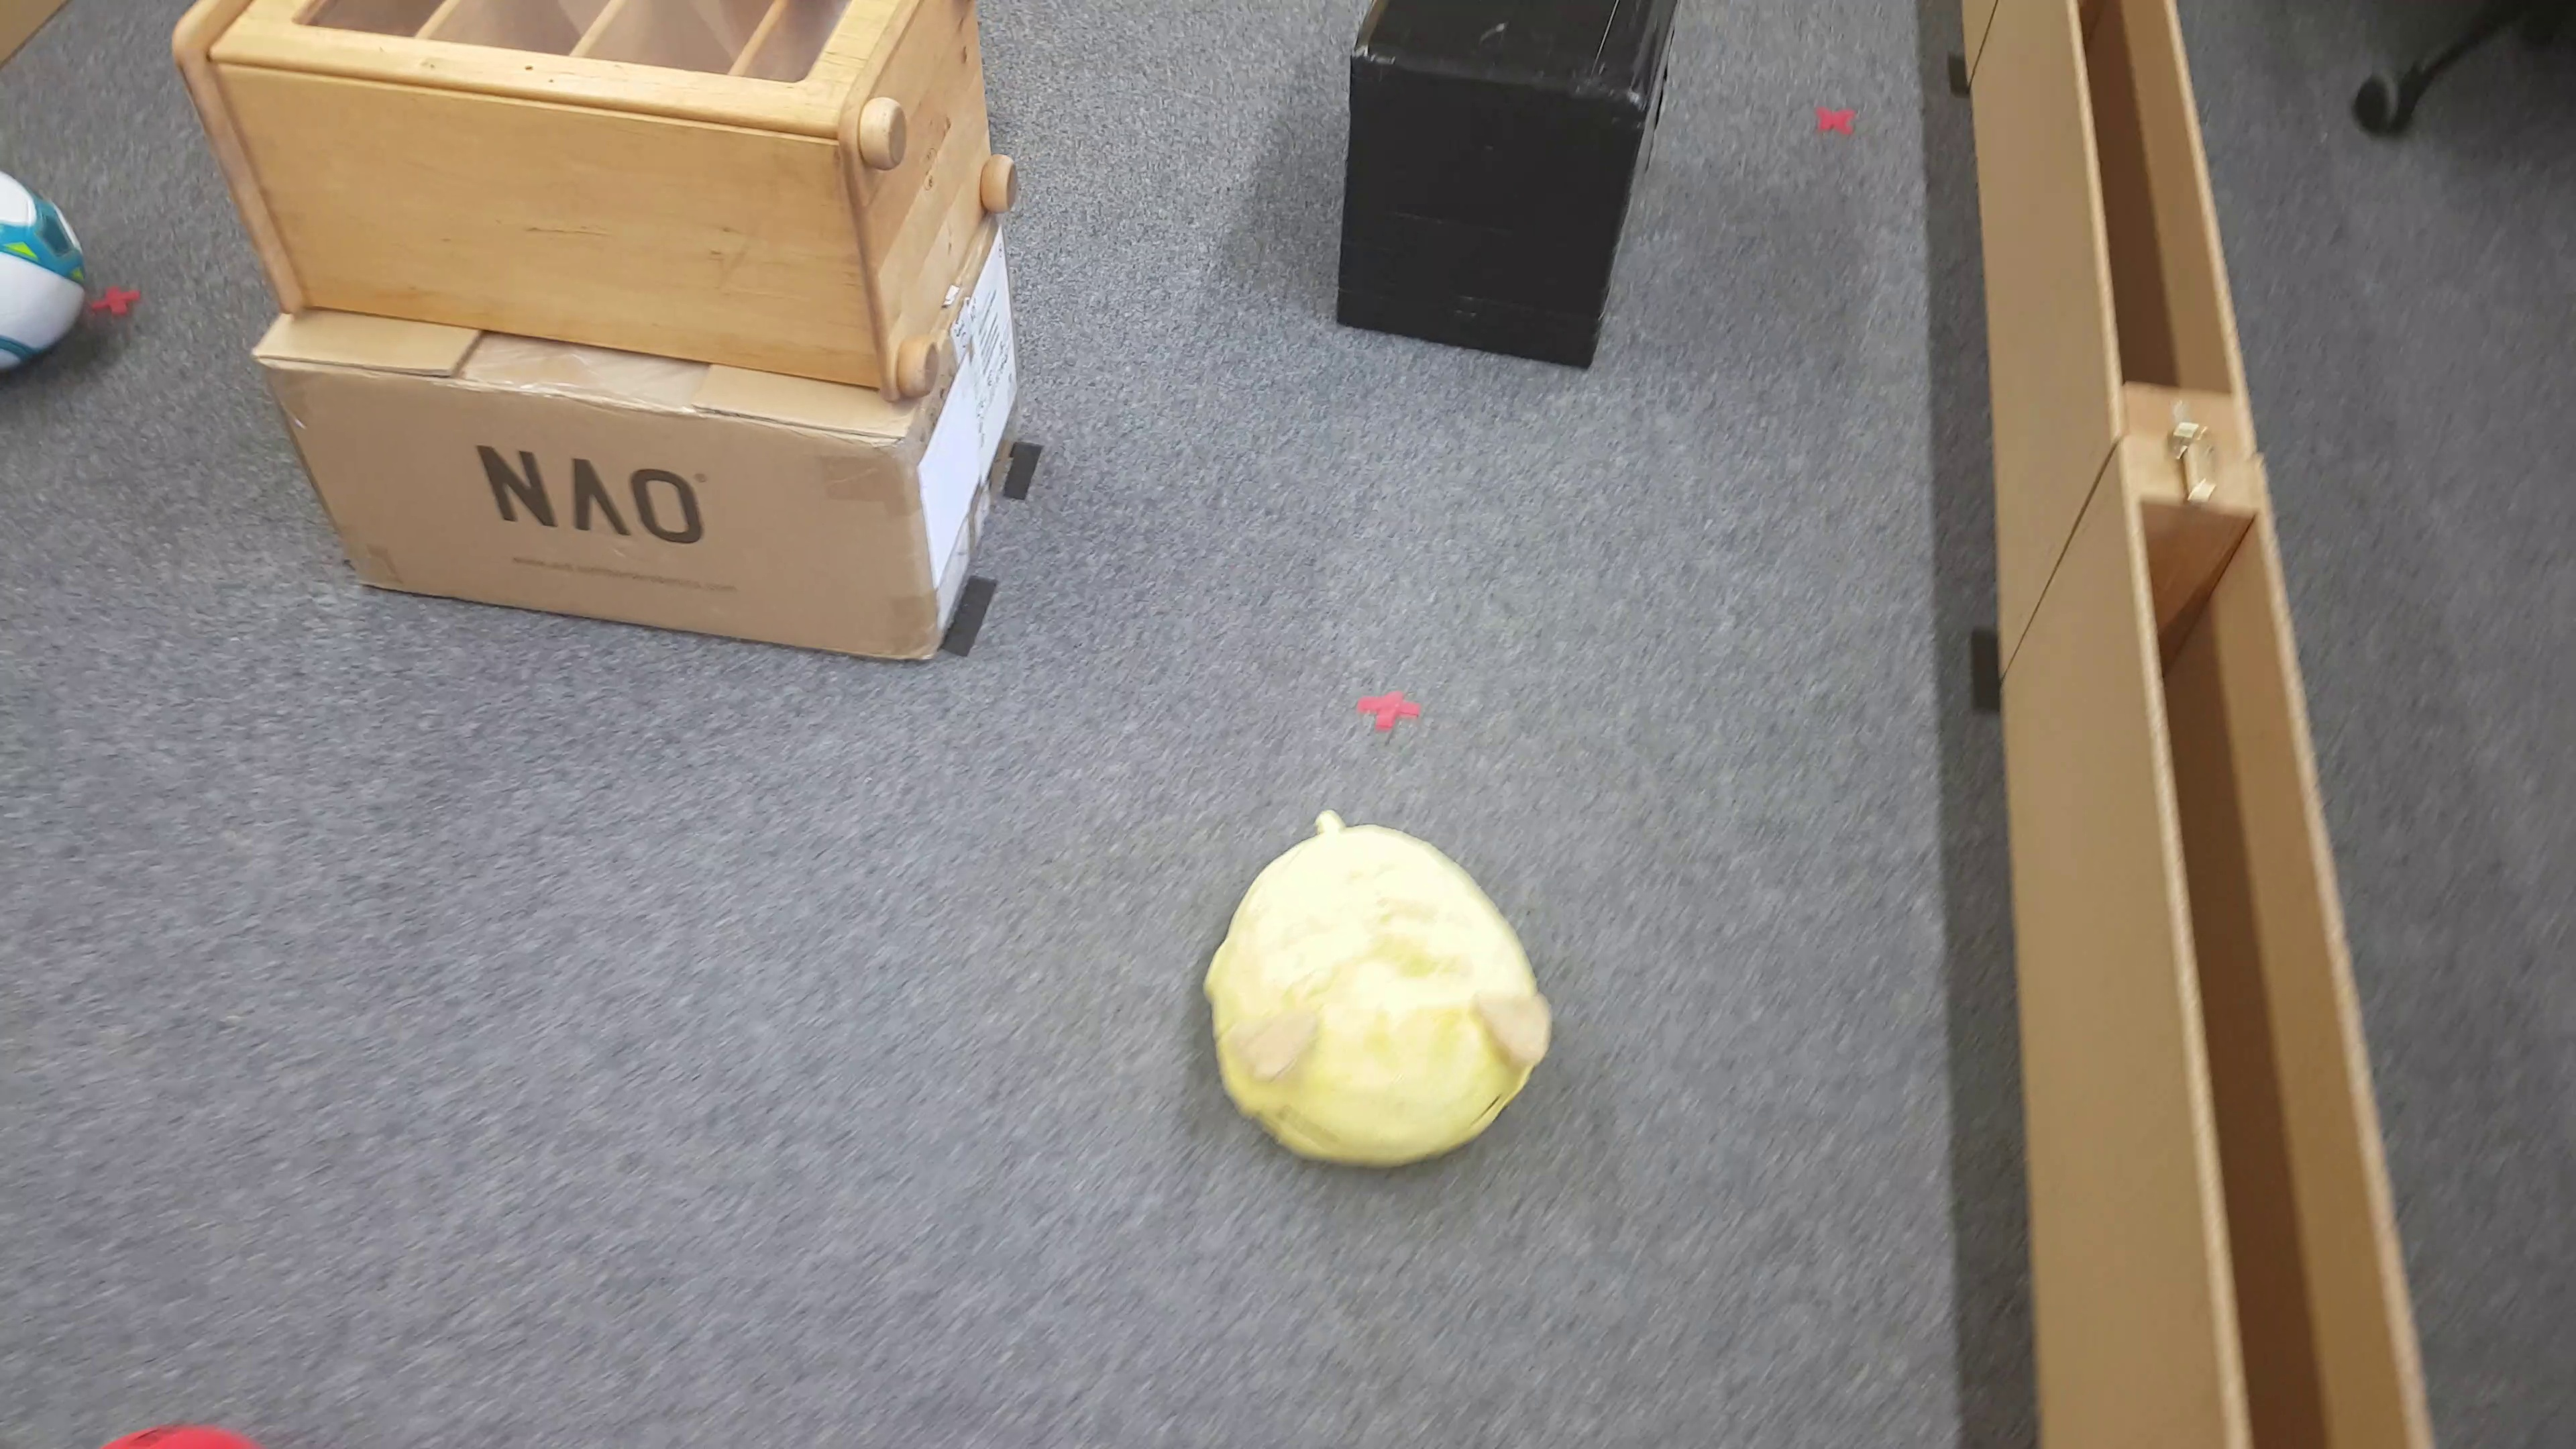grasp: (1194, 805, 1555, 1164)
kick: (4, 166, 90, 391)
push: (1345, 11, 1684, 372)
